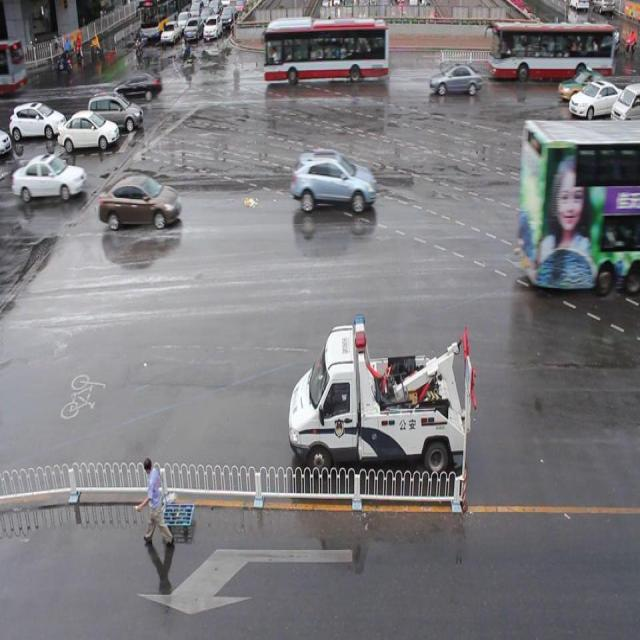car: (290, 149, 376, 212), (97, 170, 182, 228), (566, 78, 623, 118), (428, 62, 481, 97)
van: (521, 117, 640, 288), (488, 21, 612, 82), (262, 19, 388, 78)
